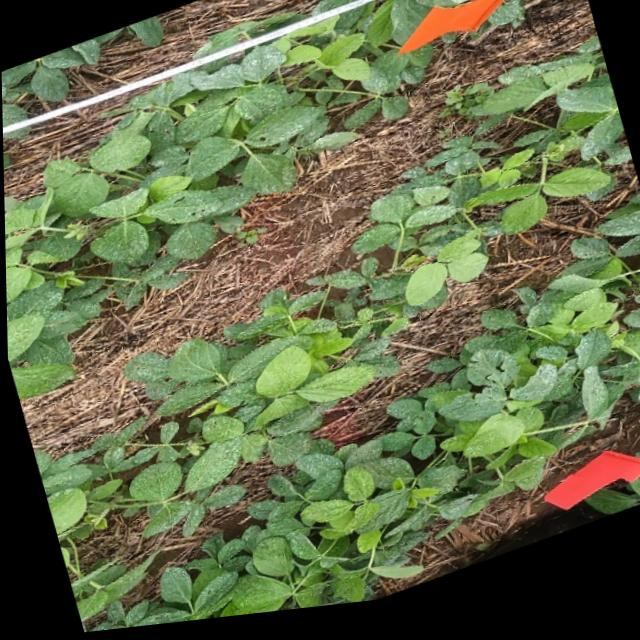caruru_weed: (439, 92, 492, 126)
soy_plant: (32, 51, 640, 634), (4, 0, 524, 396), (1, 54, 63, 109), (588, 489, 640, 526)
